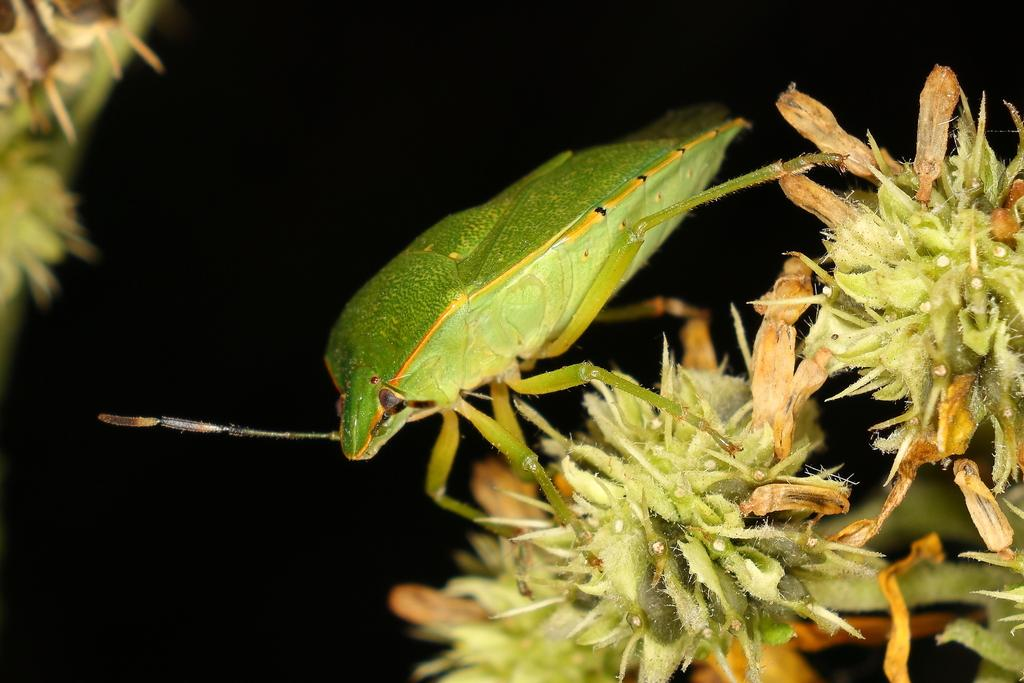stink_bugs: (43, 11, 873, 640)
